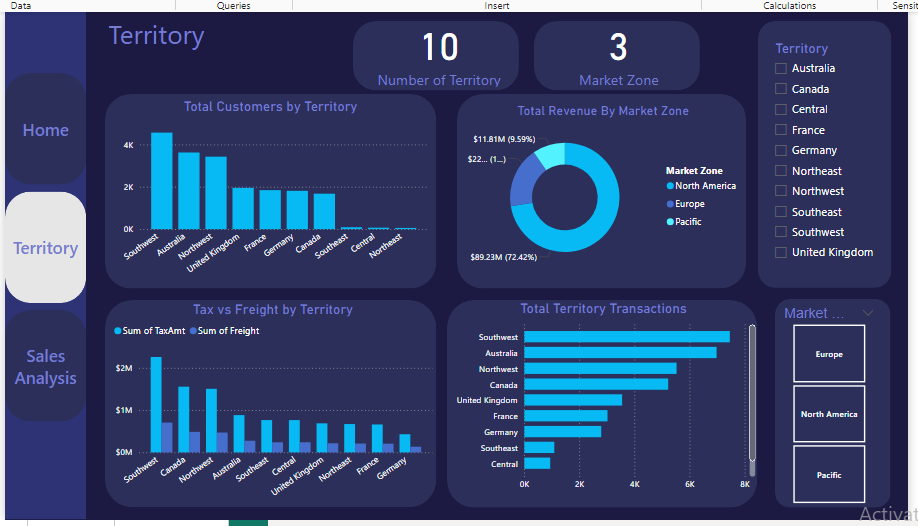

What the dashboard file says about the page in this screenshot:
{"tool":"powerbi","page":{"name":"Territory","canvas":[1280,720],"ordinal":1},"visuals":[{"type":"shape","box":[492.9,12.7,235.3,98.6],"z":0},{"type":"shape","box":[750.5,12.7,235.3,98.6],"z":1000},{"type":"shape","box":[1066.9,12.7,189.2,378.4],"z":2000},{"type":"shape","box":[640,116,409.7,275.6],"z":3000},{"type":"shape","box":[141.4,116,469.6,275.6],"z":4000},{"type":"shape","box":[1090.7,407,163.8,295.7],"z":5000},{"type":"shape","box":[626.7,407.7,439.8,294.5],"z":6000},{"type":"shape","box":[141.4,407.9,469.6,293.7],"z":7000},{"type":"lineClusteredColumnComboChart","title":"Total Customers by Territory","fields":{"Category":["DimTerritory.Territory"],"Y":["Count(FactOrders.CustomerID)"]},"box":[148.7,121.5,455.1,262.9],"z":8000},{"type":"shape","box":[0,0,115.1,719.2],"z":9000},{"type":"pageNavigator","box":[0,86.8,115.1,496.4],"z":10000},{"type":"textbox","box":[141.4,0,166.8,68.9],"z":11000},{"type":"clusteredBarChart","title":"Total Territory Transactions","fields":{"Y":["Sum(FactOrders.OrderQty)"],"Category":["DimTerritory.Territory"]},"box":[627.3,407.9,440.6,279.2],"z":12000},{"type":"clusteredColumnChart","title":"Tax vs Freight by Territory","fields":{"Category":["DimTerritory.Territory"],"Y":["Sum(FactOrders.TaxAmt)","Sum(FactOrders.Freight)"]},"box":[148.7,409.7,462.3,291.9],"z":13000},{"type":"donutChart","title":"Total Revenue By Market Zone","fields":{"Category":["DimTerritory.Group_Territory"],"Y":["Sum(FactOrders.TotalDue)"]},"box":[645.4,128.7,406.1,246.6],"z":14000},{"type":"slicer","fields":{"Values":["DimTerritory.Group_Territory"]},"box":[1091.5,410.4,151.9,291.6],"z":15000},{"type":"slicer","fields":{"Values":["DimTerritory.Territory"]},"box":[1079.2,34.9,164.2,345.8],"z":16000},{"type":"card","fields":{"Values":["CountNonNull(DimTerritory.Territoryid)"]},"box":[507.6,0,215.7,110.6],"z":17000},{"type":"card","fields":{"Values":["Count(DimTerritory.Group_Territory)"]},"box":[763.3,0,212.1,110.6],"z":18000}]}

Visuals, with their boxes on the page's 1280x720 design canvas (x1, y1, x2, y2). These are canvas units, not pixel positions in the 918x526 screenshot, which may show the page scaled, cropped or inside an application window:
shape: bbox(493, 13, 728, 111)
shape: bbox(750, 13, 986, 111)
shape: bbox(1067, 13, 1256, 391)
shape: bbox(640, 116, 1050, 392)
shape: bbox(141, 116, 611, 392)
shape: bbox(1091, 407, 1254, 703)
shape: bbox(627, 408, 1066, 702)
shape: bbox(141, 408, 611, 702)
"Total Customers by Territory" lineClusteredColumnComboChart: bbox(149, 122, 604, 384)
shape: bbox(0, 0, 115, 719)
pageNavigator: bbox(0, 87, 115, 583)
textbox: bbox(141, 0, 308, 69)
"Total Territory Transactions" clusteredBarChart: bbox(627, 408, 1068, 687)
"Tax vs Freight by Territory" clusteredColumnChart: bbox(149, 410, 611, 702)
"Total Revenue By Market Zone" donutChart: bbox(645, 129, 1052, 375)
slicer - DimTerritory.Group_Territory: bbox(1092, 410, 1243, 702)
slicer - DimTerritory.Territory: bbox(1079, 35, 1243, 381)
card - CountNonNull(DimTerritory.Territoryid): bbox(508, 0, 723, 111)
card - Count(DimTerritory.Group_Territory): bbox(763, 0, 975, 111)
